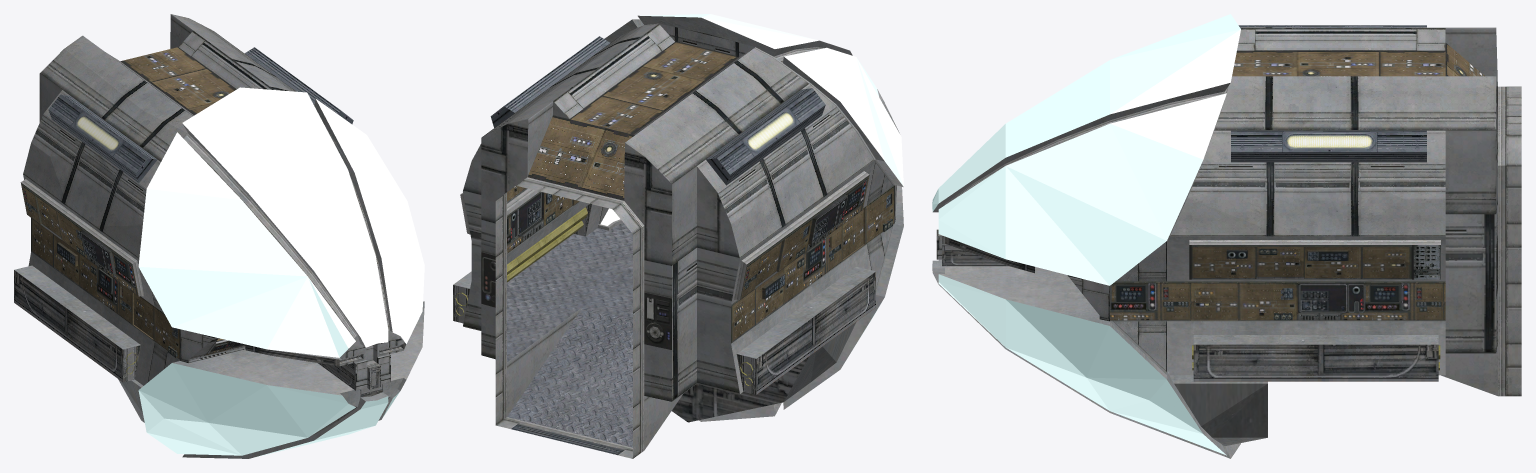
File: ykl37r_r1_cockpit_mesh.fbx
3 renders of one model, left to right at view 1: azimuth 30°, elevation 25°; view 2: azimuth 150°, elevation 25°; view 3: azimuth 270°, elevation 25°, orthographic. The views are drawn at different scales.
Visible parts, largest first — view 1: mesh_node; view 2: mesh_node; view 3: mesh_node.
Part boxes in pixels (bbox=[...]): mesh_node: bbox=[14, 14, 424, 458]; mesh_node: bbox=[453, 14, 903, 458]; mesh_node: bbox=[932, 14, 1521, 458].
Bounding box in the file's own units: 3.89 × 4.96 × 6.39.
